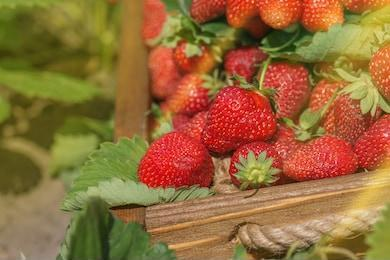Fresa: (200, 79, 281, 160), (133, 127, 217, 196), (283, 131, 362, 186), (331, 75, 387, 148), (226, 137, 285, 191)
